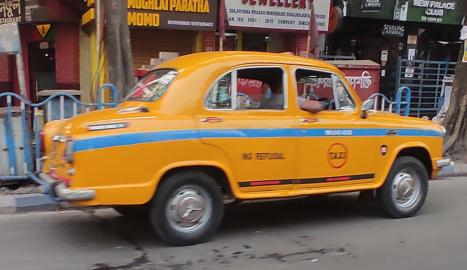Car: (36, 43, 447, 251)
